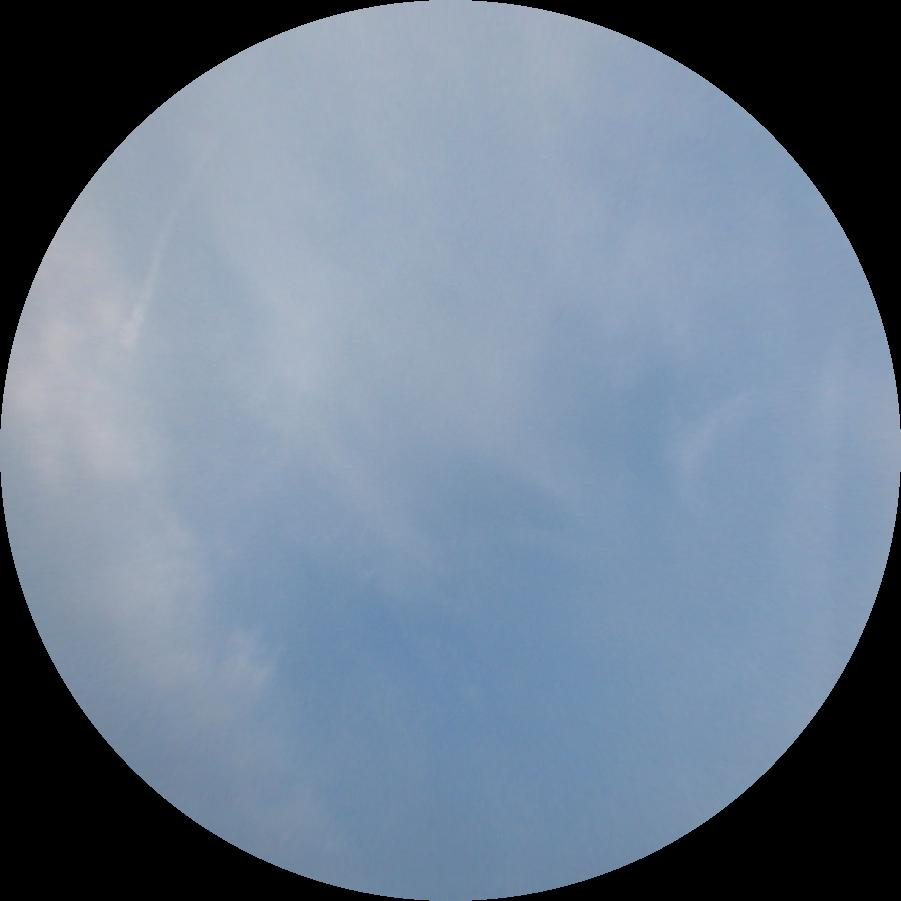contrail veryold: (117, 129, 218, 339)
